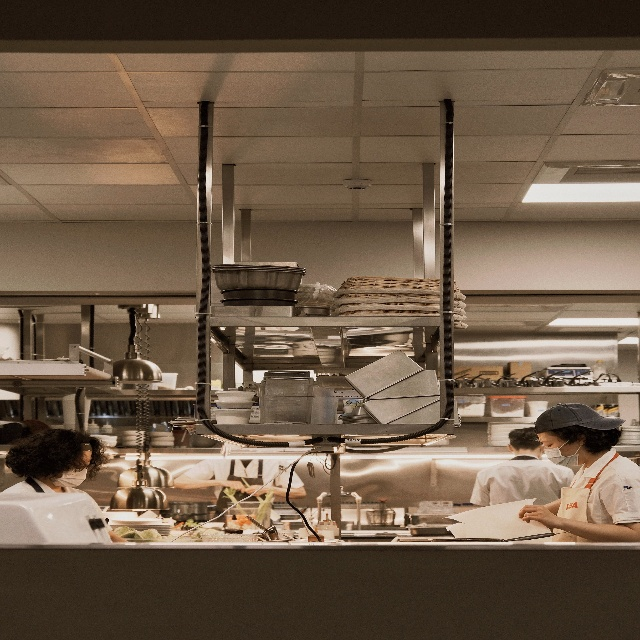Sin_guantes: (518, 504, 552, 528)
